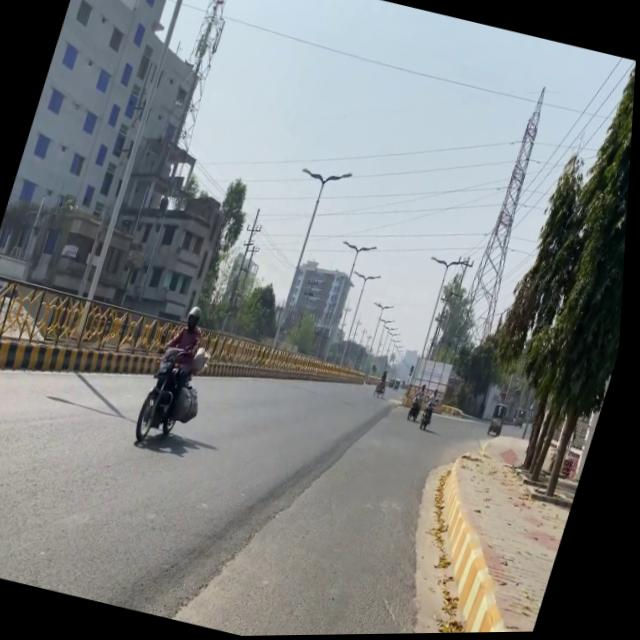Construction-barrier: (384, 492, 572, 635), (0, 303, 169, 414)
Fallen-tree: (134, 337, 221, 454), (421, 399, 442, 431), (410, 395, 428, 424), (377, 381, 393, 400)
Garbage-bin: (145, 300, 215, 426)
Pothole: (341, 395, 599, 636)
Traffic-cone: (491, 404, 513, 438)
